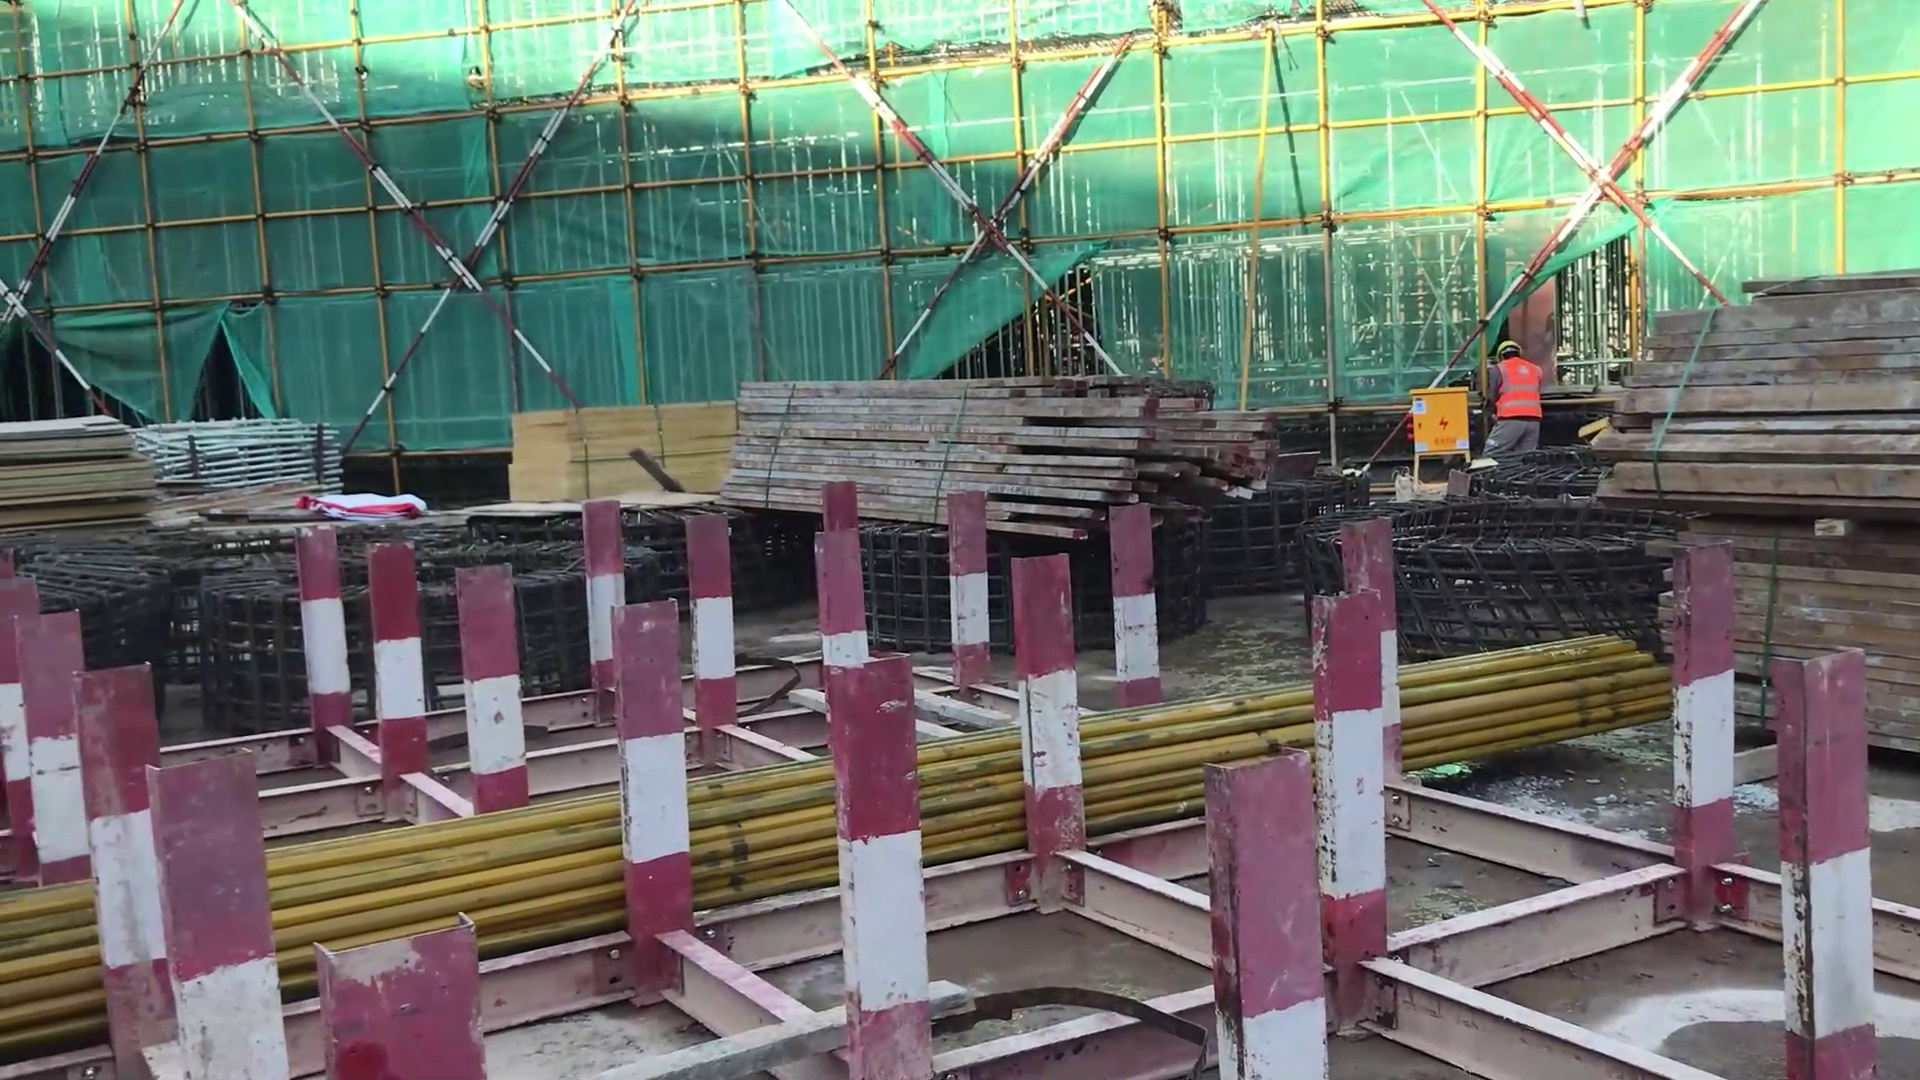ebox: (1400, 377, 1480, 464)
vest: (1490, 347, 1549, 422)
wood: (1600, 268, 1920, 695), (702, 361, 1271, 539)
